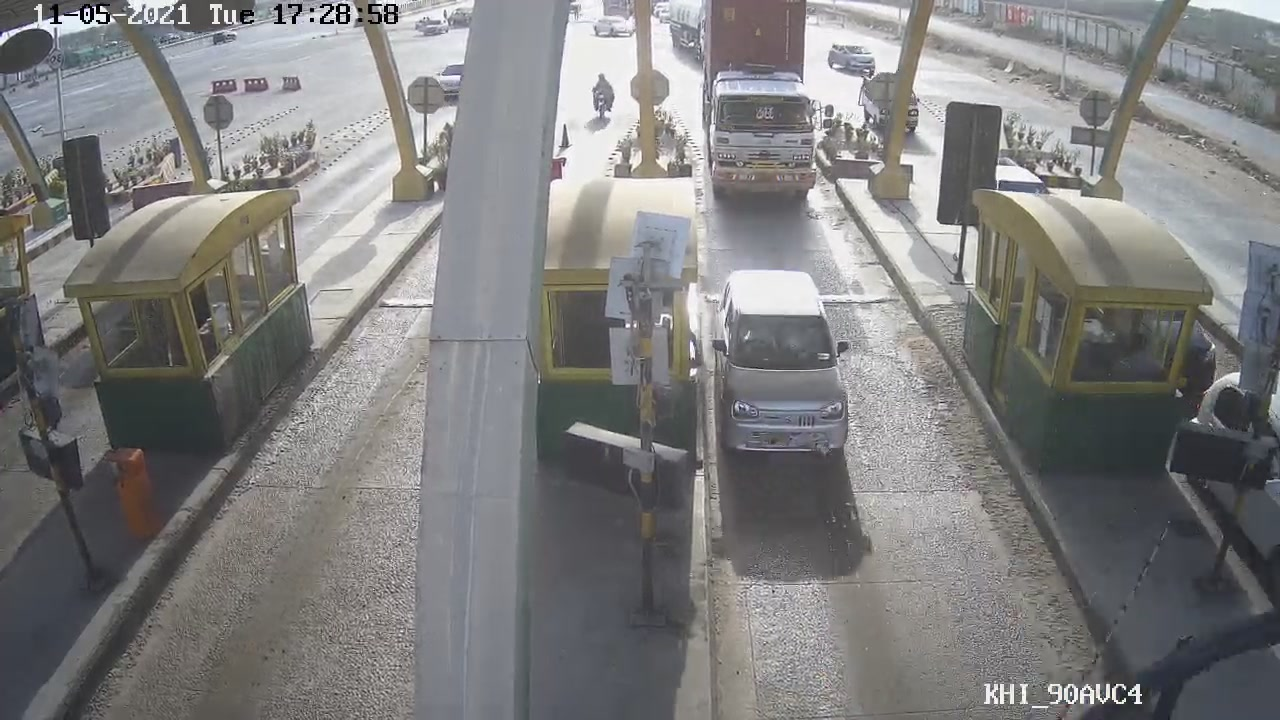F1: (709, 264, 854, 457)
F6: (697, 20, 845, 212)
